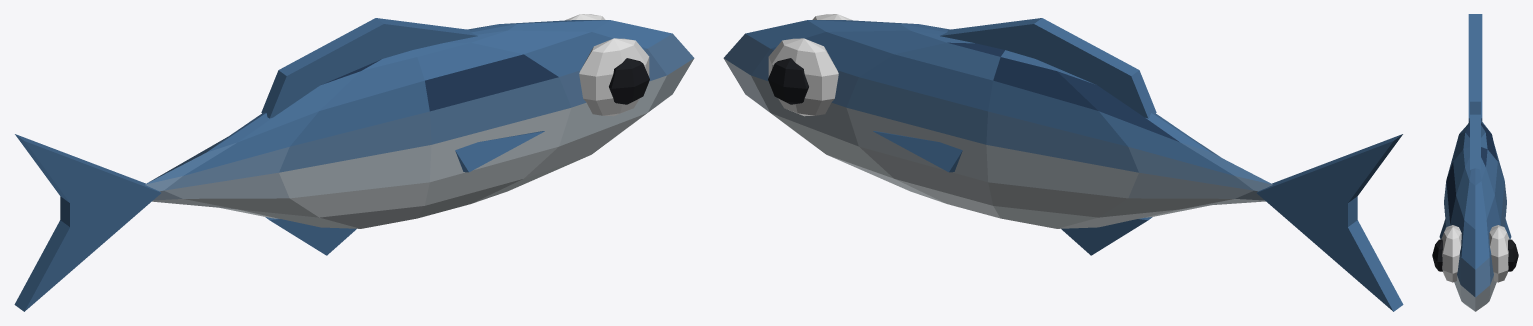
File: fish-sardine.glb
The picture shows the model from 3 angles, left to right: view 1: azimuth 30°, elevation 25°; view 2: azimuth 150°, elevation 25°; view 3: azimuth 270°, elevation 25°; orthographic projection. The views are drawn at different scales.
Visible parts, largest first — view 1: fish-sardine; view 2: fish-sardine; view 3: fish-sardine.
Part boxes in pixels (<box>): fish-sardine: <box>14,14,694,311</box>; fish-sardine: <box>723,14,1403,311</box>; fish-sardine: <box>1432,14,1518,311</box>.
Size of the model in its own units: 1.18 by 0.364 by 0.1918.
